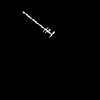treble_crochet: (23, 12, 53, 35)
